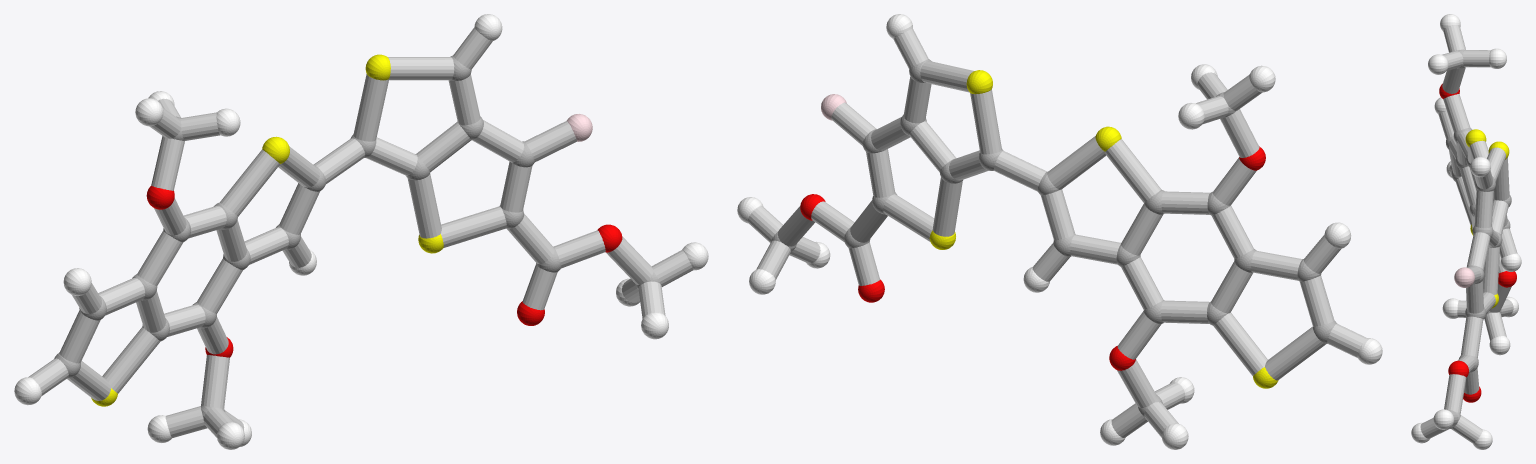
The model's file is Dimethoxy_Benzodithiophene_Phi_20_Theta_160_Methylcarbonyl_3_Fluoro_Thienothiophene.glb.
3 renders of one model, left to right at view 1: azimuth 30°, elevation 25°; view 2: azimuth 150°, elevation 25°; view 3: azimuth 270°, elevation 25°, orthographic. The views are drawn at different scales.
Parts seen in each view (by area): view 1: grp15205, grp8689, grp1, grp7241, grp13395; view 2: grp15205, grp8689, grp1, grp7241, grp13395; view 3: grp15205, grp8689, grp1, grp13395, grp7241, grp14843.
Boxes of the visible parts, box(x1,y1,x2,y2) form: grp15205: box(28, 27, 693, 438); grp8689: box(14, 14, 708, 449); grp1: box(54, 55, 660, 427); grp7241: box(91, 54, 443, 406); grp13395: box(146, 185, 622, 357); grp15205: box(747, 29, 1366, 437); grp8689: box(737, 14, 1382, 449); grp1: box(771, 59, 1336, 416); grp7241: box(929, 70, 1278, 388); grp13395: box(800, 146, 1265, 370); grp15205: box(1420, 25, 1517, 443); grp8689: box(1411, 14, 1521, 449); grp1: box(1446, 49, 1511, 428); grp13395: box(1439, 83, 1516, 402); grp7241: box(1465, 129, 1509, 308); grp14843: box(1454, 267, 1474, 287).
Size of the model in its own units: 16.77 by 9.43 by 3.19.
